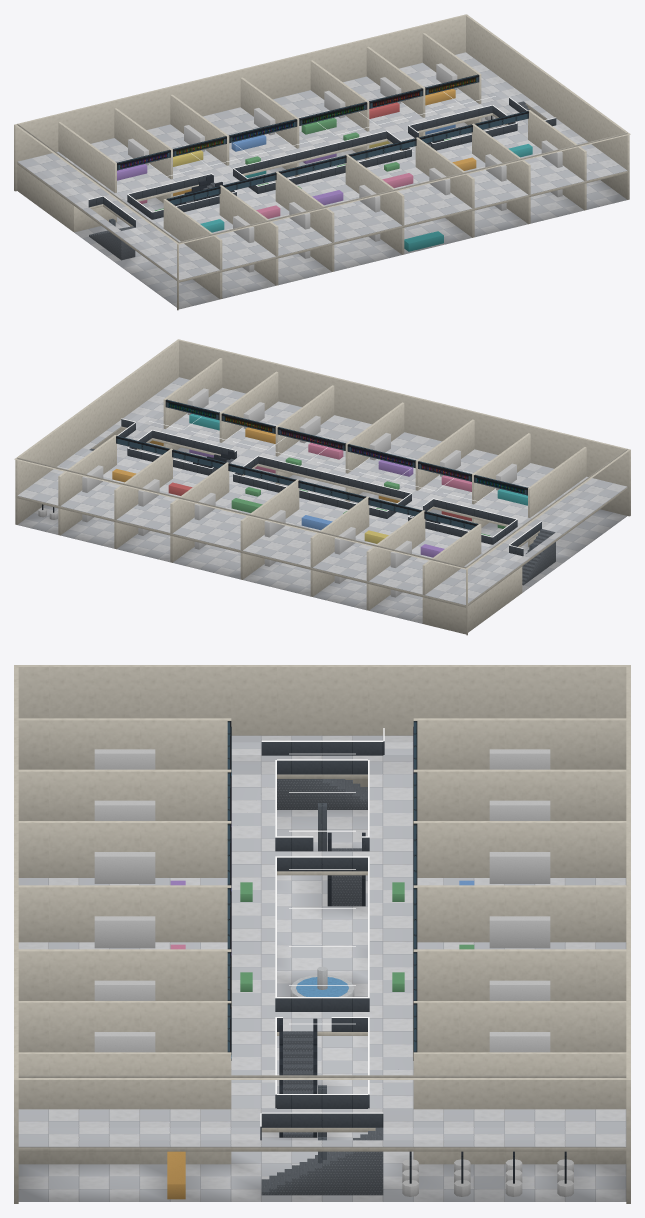
Rendered from mall.glb.
3 renders of one model, top to bottom at view 1: azimuth 30°, elevation 25°; view 2: azimuth 150°, elevation 25°; view 3: azimuth 270°, elevation 25°, orthographic. The views are drawn at different scales.
Visible parts, largest first — view 1: Map; view 2: Map; view 3: Map.
Part boxes in pixels (x1=…): Map: x1=14, y1=14, x2=630, y2=310; Map: x1=14, y1=339, x2=630, y2=635; Map: x1=14, y1=665, x2=630, y2=1203.
Size of the model in its own units: 64.6 by 9.2 by 40.6.
Materials: 11 (10 with a texture image).
